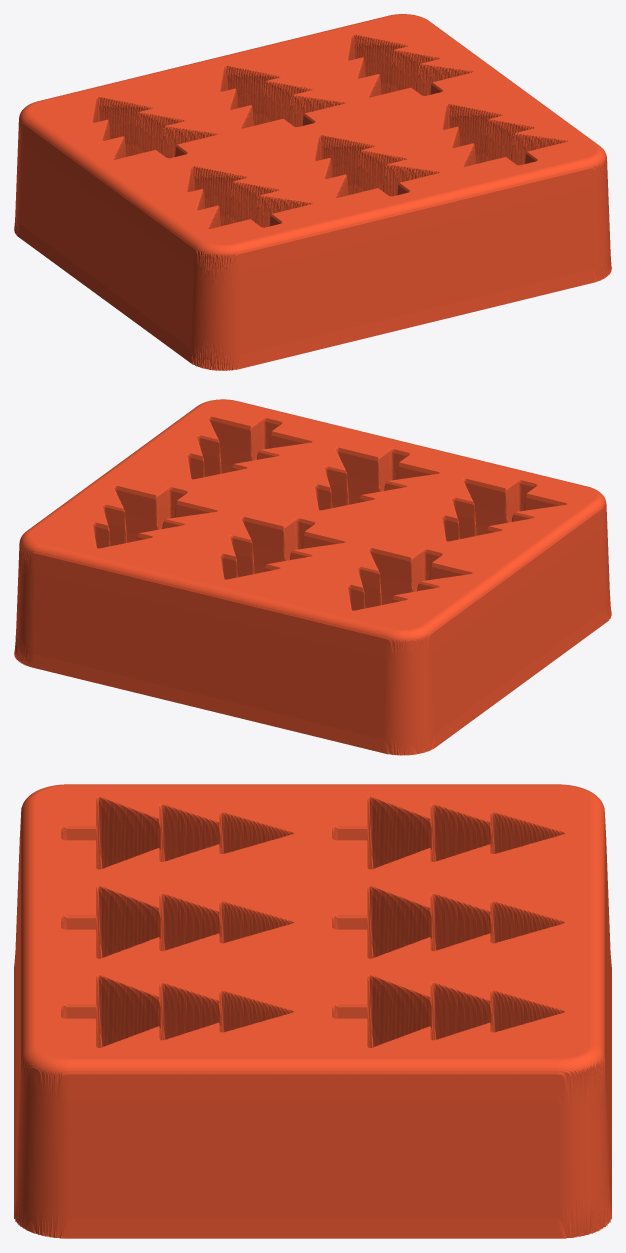
File: mold.glb
3 views of the same model, one above another, from view 1: azimuth 30°, elevation 25°; view 2: azimuth 150°, elevation 25°; view 3: azimuth 270°, elevation 25° (orthographic). The views are drawn at different scales.
Visible parts, largest first — view 1: geometry_0; view 2: geometry_0; view 3: geometry_0.
Boxes of the visible parts, x1,y1,x2,y2 form: geometry_0: [14, 14, 611, 370]; geometry_0: [14, 399, 611, 755]; geometry_0: [14, 784, 611, 1238].
Bounding box in the file's own units: 0.1147 × 0.0314 × 0.0996.
